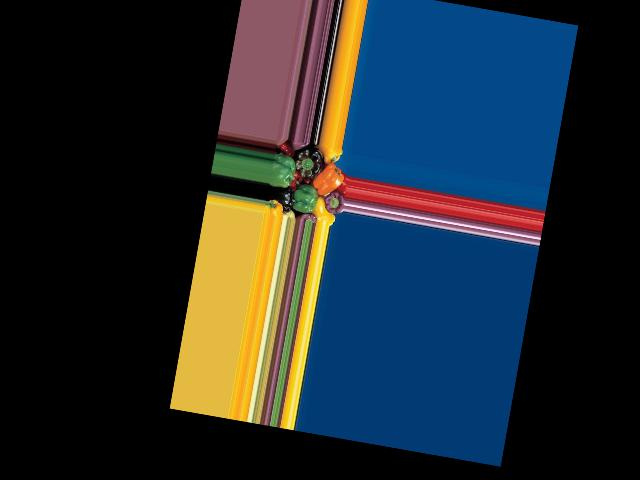bell_pepper: (268, 151, 295, 187)
